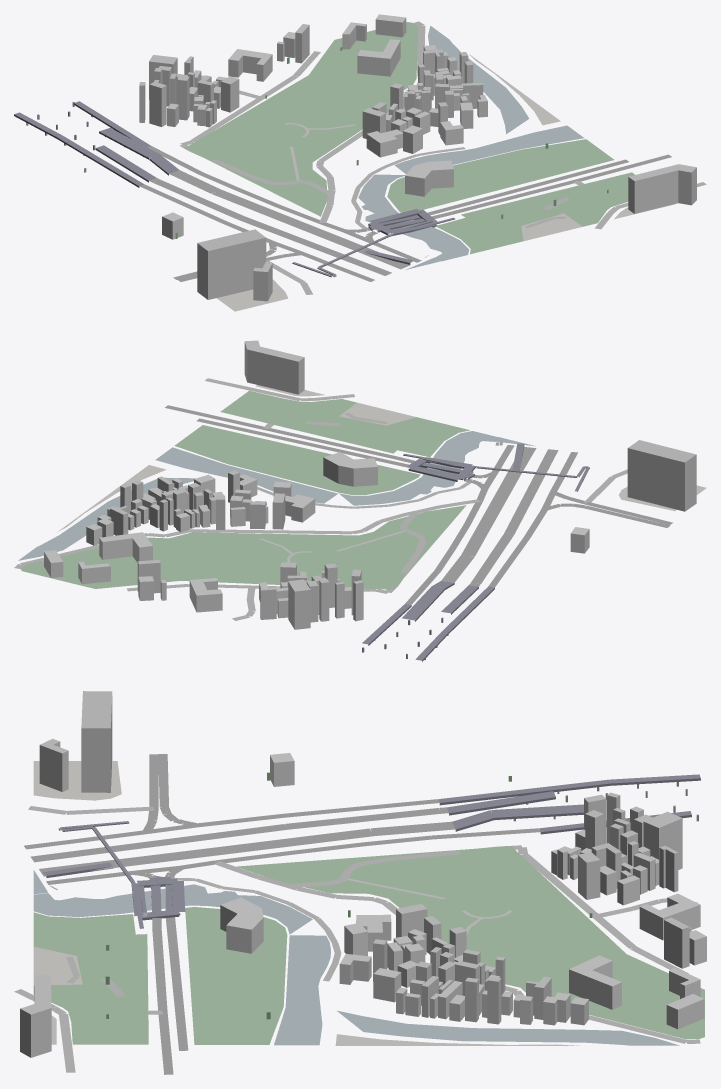
3 renders of one model, top to bottom at view 1: azimuth 30°, elevation 25°; view 2: azimuth 150°, elevation 25°; view 3: azimuth 270°, elevation 25°, orthographic. The views are drawn at different scales.
Size of the model in its own units: 565 by 56.12 by 516.
